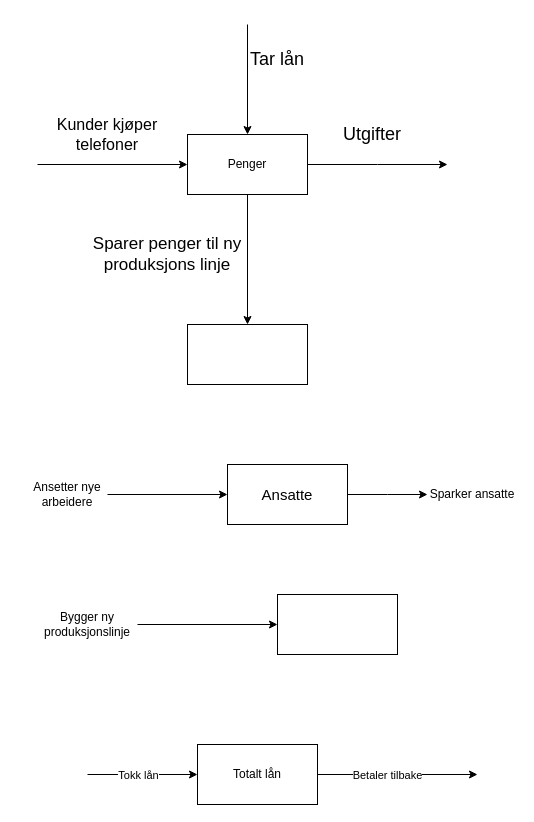
Some shapes in this 534 by 822 pixel diagram are drawn without their labels. Here are the shapes that lost their labels. From the top down, the centre of each, then its label:
At (x=247, y=354): "Penger spart til ny produksjons linje".
At (x=337, y=624): "Produksjonslinjer".
